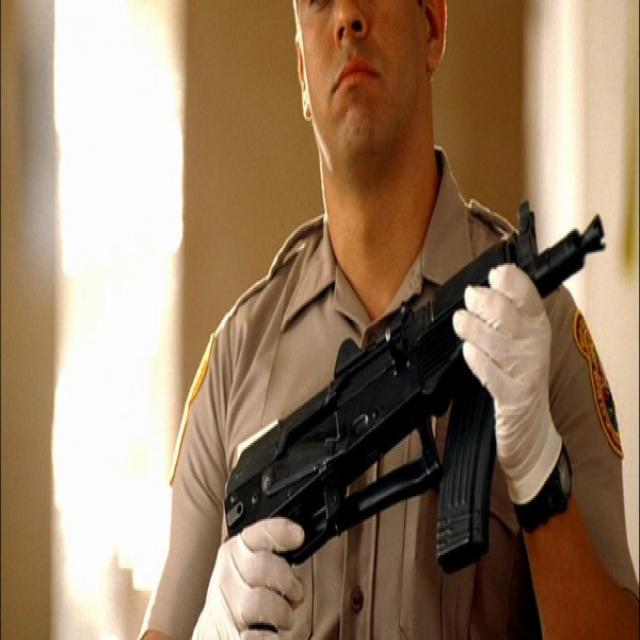rifle: (225, 199, 610, 634)
